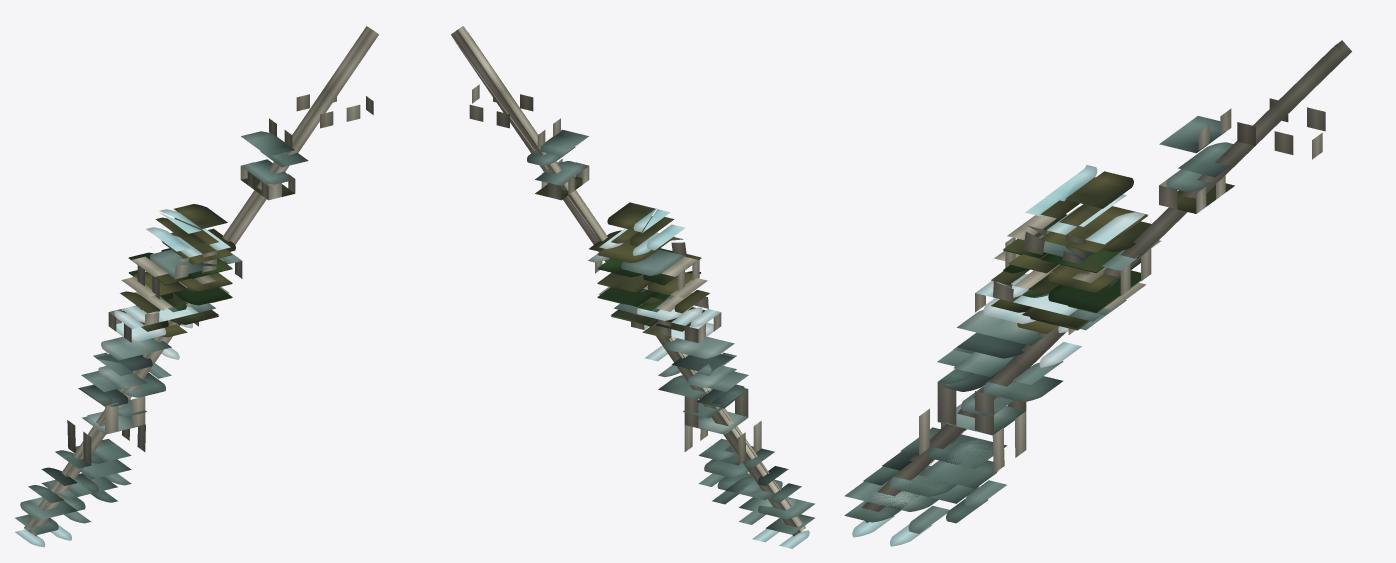
The model's file is shoreline_bow.obj.
3 views of the same model, side by side, from view 1: azimuth 30°, elevation 25°; view 2: azimuth 150°, elevation 25°; view 3: azimuth 330°, elevation 25° (orthographic). The views are drawn at different scales.
Parts seen in each view (by area): view 1: lit; view 2: lit; view 3: lit.
Boxes of the visible parts, box(x1,y1,x2,y2) form: lit: box(15, 26, 378, 547); lit: box(451, 26, 815, 548); lit: box(844, 40, 1351, 546).
Size of the model in its own units: 0.8441 by 0.9688 by 0.1532.
